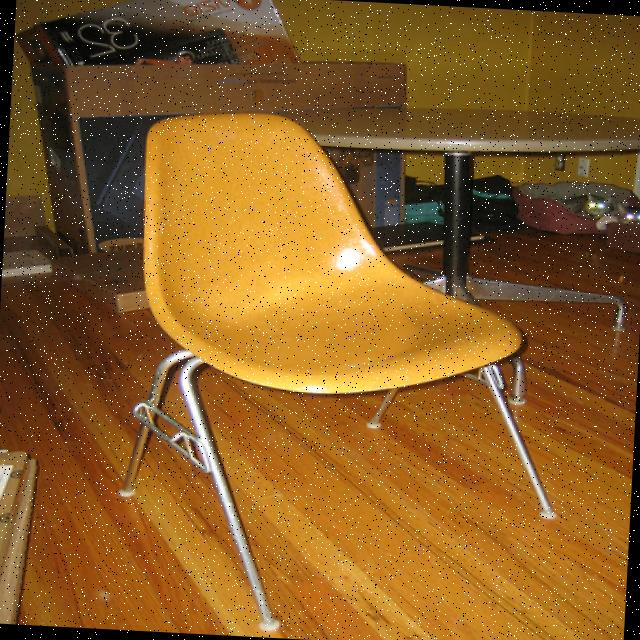Chair: (58, 92, 618, 640)
